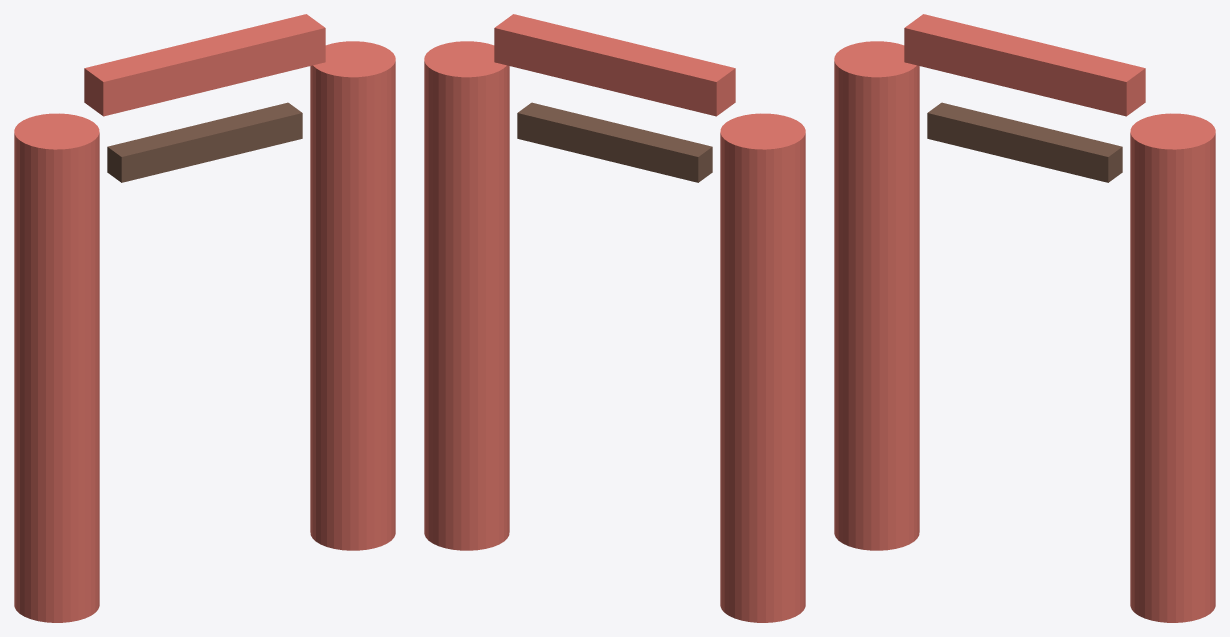
The model's file is pickup.shinto-gate.v1.glb.
3 views of the same model, side by side, from view 1: azimuth 30°, elevation 25°; view 2: azimuth 150°, elevation 25°; view 3: azimuth 330°, elevation 25° (orthographic).
Visible parts, largest first — view 1: pickup.shinto-gate.v1_pillar_l, pickup.shinto-gate.v1_pillar_r, pickup.shinto-gate.v1_beam_top, pickup.shinto-gate.v1_beam_mid; view 2: pickup.shinto-gate.v1_pillar_l, pickup.shinto-gate.v1_pillar_r, pickup.shinto-gate.v1_beam_top, pickup.shinto-gate.v1_beam_mid; view 3: pickup.shinto-gate.v1_pillar_r, pickup.shinto-gate.v1_pillar_l, pickup.shinto-gate.v1_beam_top, pickup.shinto-gate.v1_beam_mid.
Part boxes in pixels (x1,y1,x2,y2): pickup.shinto-gate.v1_pillar_l: (14,113,99,622); pickup.shinto-gate.v1_pillar_r: (310,41,395,550); pickup.shinto-gate.v1_beam_top: (84,14,325,116); pickup.shinto-gate.v1_beam_mid: (107,102,302,182); pickup.shinto-gate.v1_pillar_l: (720,113,805,622); pickup.shinto-gate.v1_pillar_r: (424,41,509,550); pickup.shinto-gate.v1_beam_top: (494,14,735,116); pickup.shinto-gate.v1_beam_mid: (517,102,712,182); pickup.shinto-gate.v1_pillar_r: (1130,113,1215,622); pickup.shinto-gate.v1_pillar_l: (834,41,919,550); pickup.shinto-gate.v1_beam_top: (904,14,1145,116); pickup.shinto-gate.v1_beam_mid: (927,102,1122,182).
Size of the model in its own units: 0.45 by 0.605 by 0.09.
